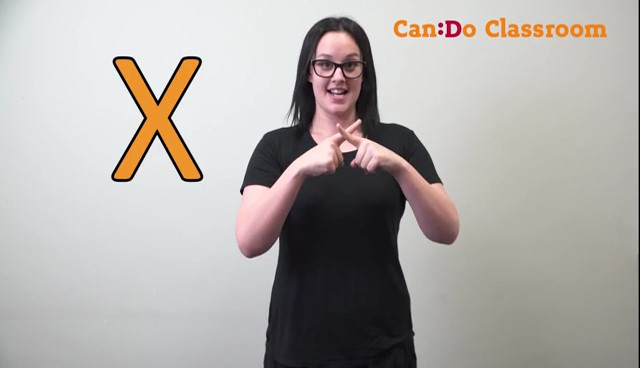X: (291, 108, 406, 183)
